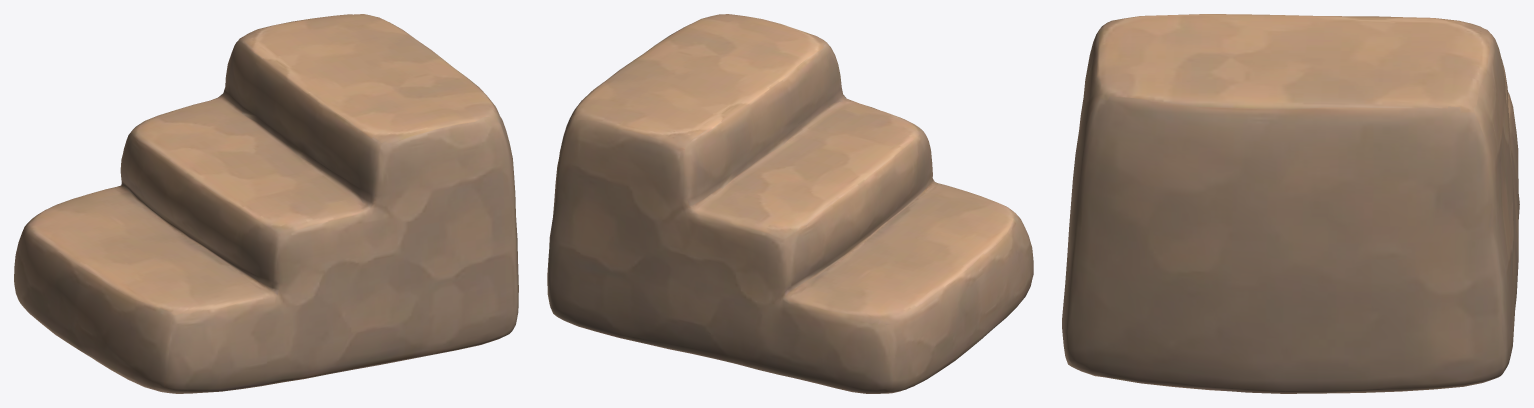
The model's file is stairs.glb.
3 renders of one model, left to right at view 1: azimuth 30°, elevation 25°; view 2: azimuth 150°, elevation 25°; view 3: azimuth 270°, elevation 25°, orthographic. The views are drawn at different scales.
Size of the model in its own units: 1 by 0.5502 by 0.7884.
Materials: 1 (1 with a texture image).
